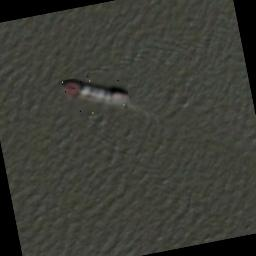boat: (59, 69, 131, 119)
